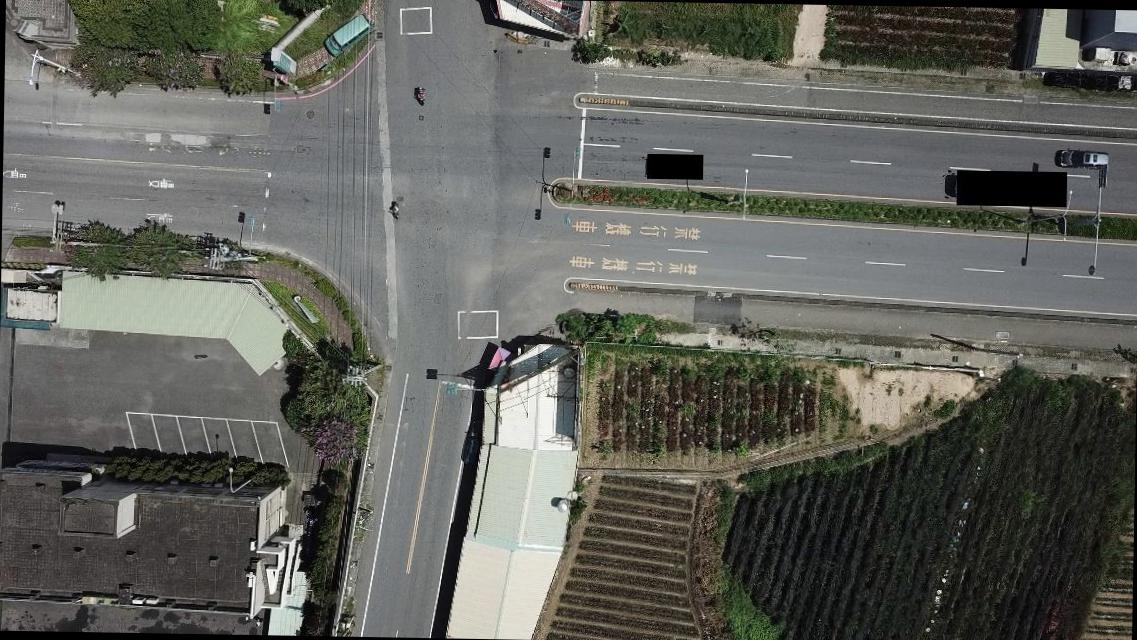vehicle: (318, 15, 370, 58), (1060, 150, 1111, 170)
